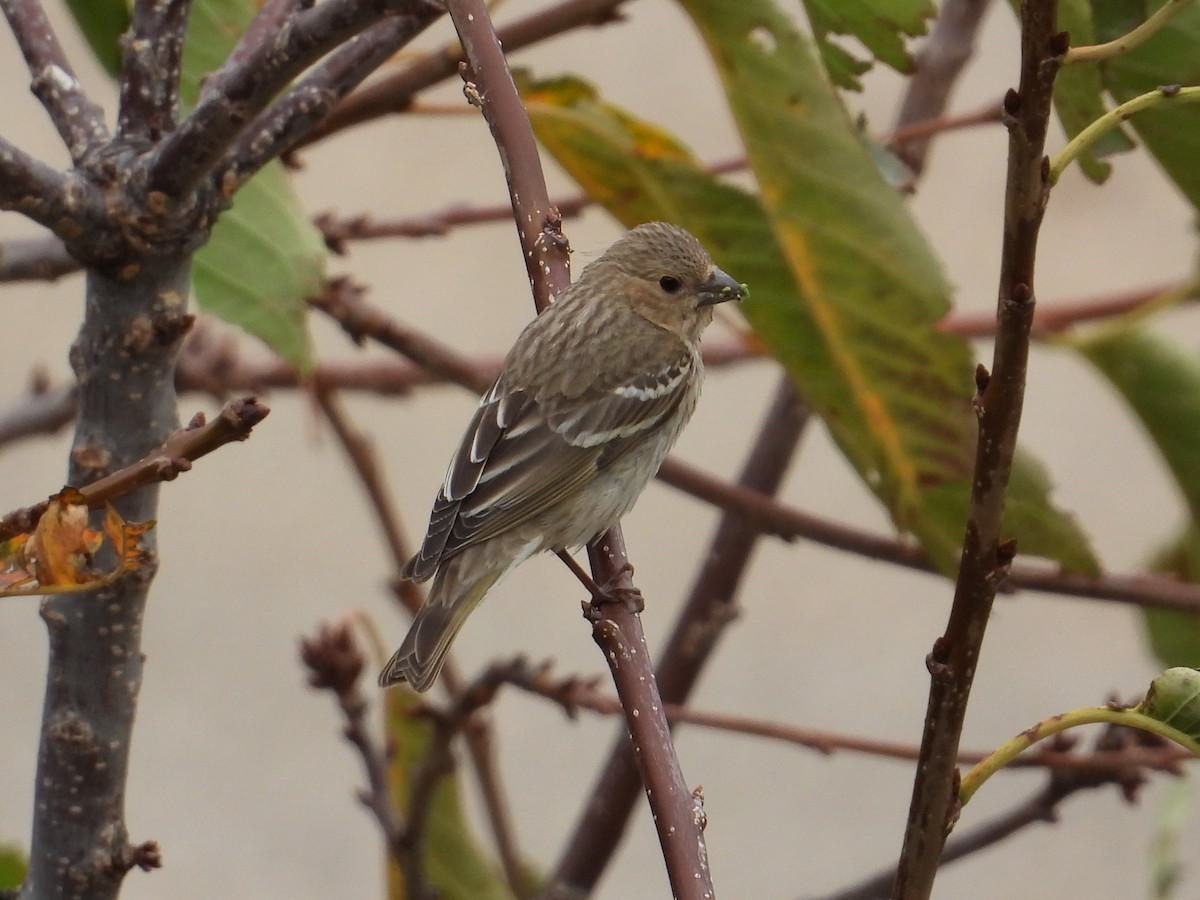rosefinch: (409, 217, 750, 657)
